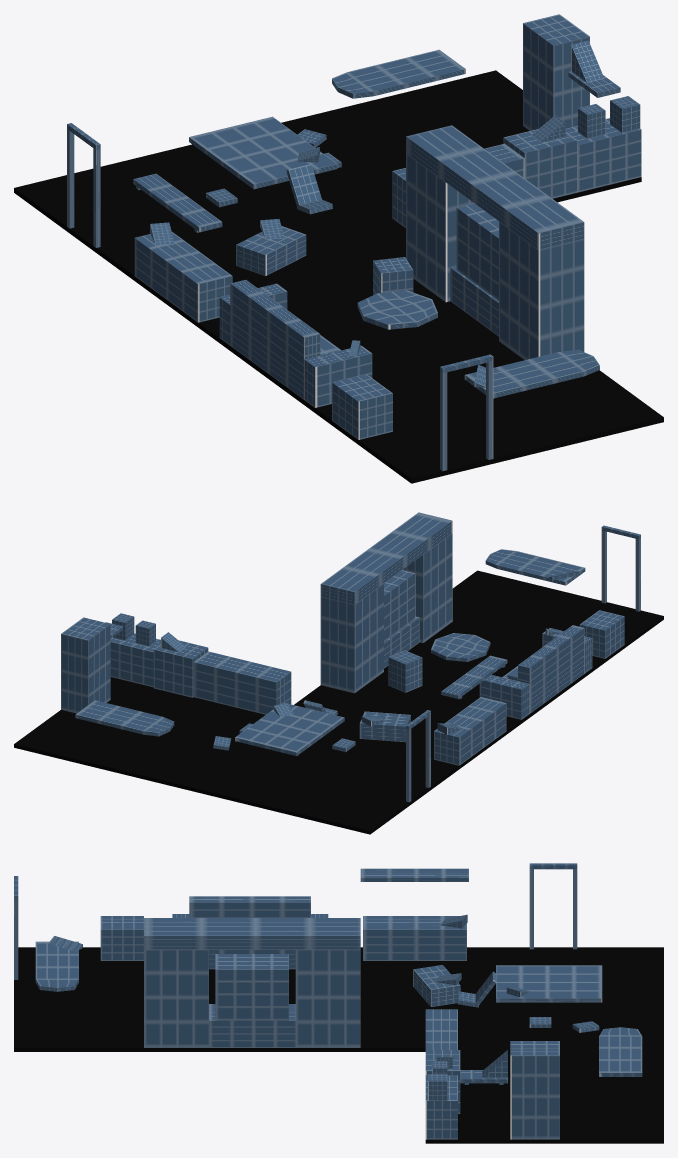
Rendered from level_test.glb.
The picture shows the model from 3 angles, top to bottom: view 1: azimuth 30°, elevation 25°; view 2: azimuth 150°, elevation 25°; view 3: azimuth 270°, elevation 25°; orthographic projection. The views are drawn at different scales.
Visible parts, largest first — view 1: Cube.007, Cube.008, Cube.015, Cube.019, Cube.010, Cube.036, Cube.013, Cube.005, Cube.012, Cube.014, Cube, Cube.034 (+13 smaller); view 2: Cube.007, Cube.008, Cube.011, Cube.015, Cube.019, Cube.010, Cube.036, Cube.012, Cube.005, Cube.013, Cube, Cube.014 (+9 smaller); view 3: Cube.007, Cube.008, Cube.015, Cube.010, Cube.019, Cube.036, Cube.005, Cube.014, Cube, Cube.013, Cube.004, Cube.017 (+8 smaller).
Part boxes in pixels (bbox=[...]): Cube.007: bbox=[14, 70, 663, 483]; Cube.008: bbox=[406, 125, 584, 359]; Cube.015: bbox=[523, 14, 589, 130]; Cube.019: bbox=[189, 116, 337, 189]; Cube.010: bbox=[134, 231, 232, 322]; Cube.036: bbox=[230, 280, 320, 375]; Cube.013: bbox=[565, 118, 641, 192]; Cube.005: bbox=[332, 49, 465, 98]; Cube.012: bbox=[503, 129, 577, 198]; Cube.014: bbox=[332, 374, 392, 439]; Cube: bbox=[464, 349, 599, 398]; Cube.034: bbox=[304, 345, 372, 407]; Cube.007: bbox=[14, 570, 663, 834]; Cube.008: bbox=[320, 512, 452, 693]; Cube.011: bbox=[193, 651, 291, 714]; Cube.015: bbox=[61, 617, 110, 713]; Cube.019: bbox=[235, 702, 344, 755]; Cube.010: bbox=[434, 697, 506, 765]; Cube.036: bbox=[518, 625, 584, 695]; Cube.012: bbox=[153, 640, 208, 697]; Cube.005: bbox=[75, 700, 174, 736]; Cube.013: bbox=[110, 633, 160, 687]; Cube: bbox=[485, 549, 585, 585]; Cube.014: bbox=[579, 610, 624, 658]; Cube.007: bbox=[14, 947, 663, 1143]; Cube.008: bbox=[144, 918, 360, 1047]; Cube.015: bbox=[510, 1041, 559, 1139]; Cube.010: bbox=[363, 916, 466, 960]; Cube.019: bbox=[496, 965, 602, 1002]; Cube.036: bbox=[189, 896, 310, 917]; Cube.005: bbox=[599, 1027, 642, 1076]; Cube.014: bbox=[100, 916, 143, 960]; Cube: bbox=[35, 941, 78, 991]; Cube.013: bbox=[425, 1075, 457, 1139]; Cube.004: bbox=[360, 868, 468, 881]; Cube.017: bbox=[413, 965, 460, 1006].
Bounding box in the file's own units: 63 × 17.7 × 90.
2 materials, 1 textured.
